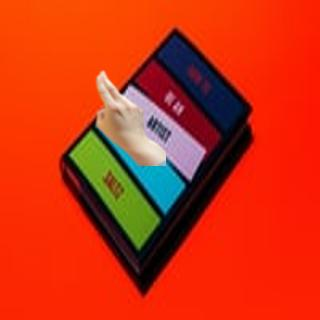DHAVE: (91, 67, 148, 145)
